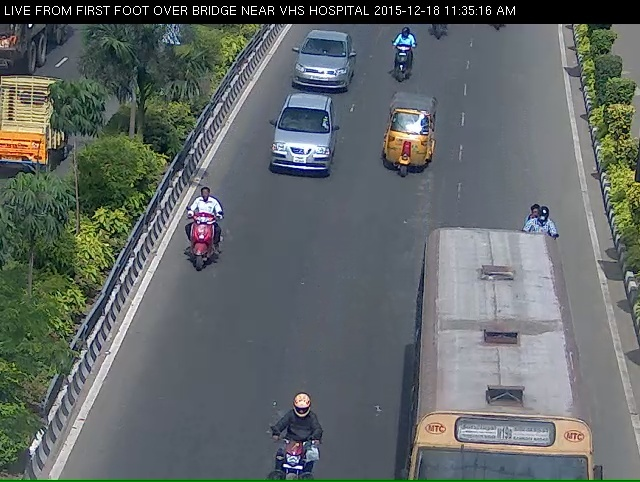Auto: (384, 98, 445, 189)
Bus: (408, 240, 602, 482)
Car: (262, 111, 334, 195), (285, 34, 347, 99)
Person: (168, 193, 218, 293), (520, 209, 569, 253), (385, 35, 412, 87)
